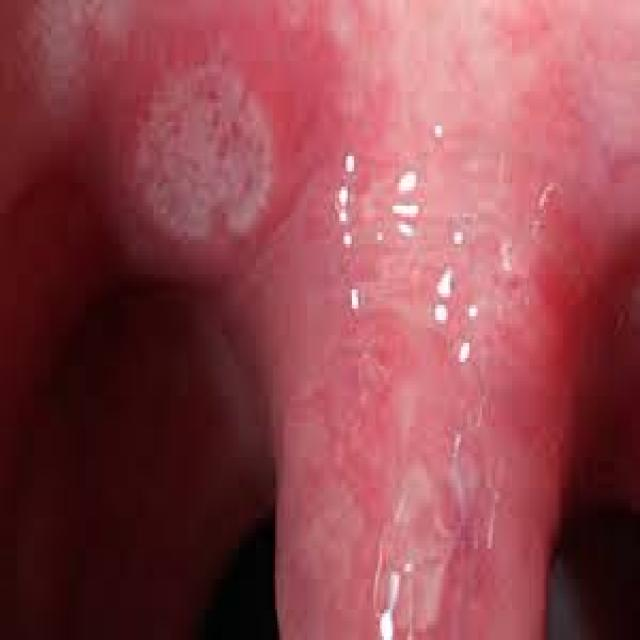processing_area: (2, 0, 638, 636)
ulcer-detection: (119, 25, 296, 265)
